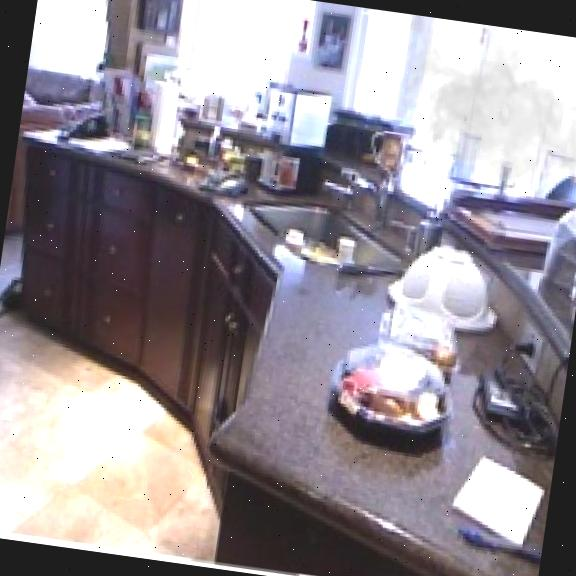smoke: (374, 13, 576, 212)
